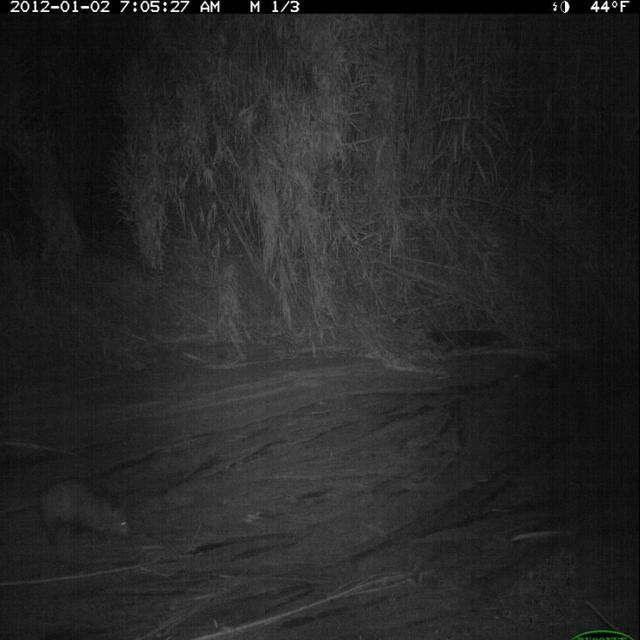opossum: (1, 470, 141, 556)
